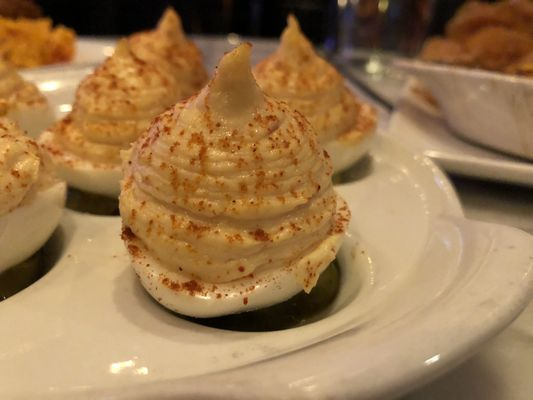curry: (11, 11, 532, 399)
sushi: (118, 41, 352, 320), (252, 14, 378, 180)
